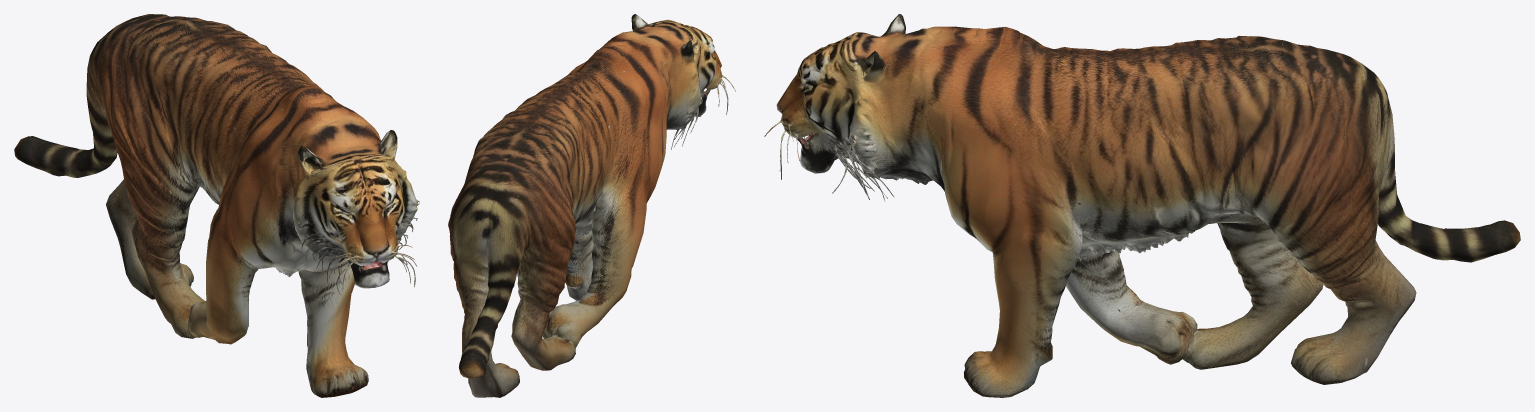
File: tiger.glb
3 views of the same model, side by side, from view 1: azimuth 30°, elevation 25°; view 2: azimuth 150°, elevation 25°; view 3: azimuth 270°, elevation 25° (orthographic). The views are drawn at different scales.
Bounding box in the file's own units: 0.4522 × 0.9536 × 1.9.
Materials: 1 (1 with a texture image).
